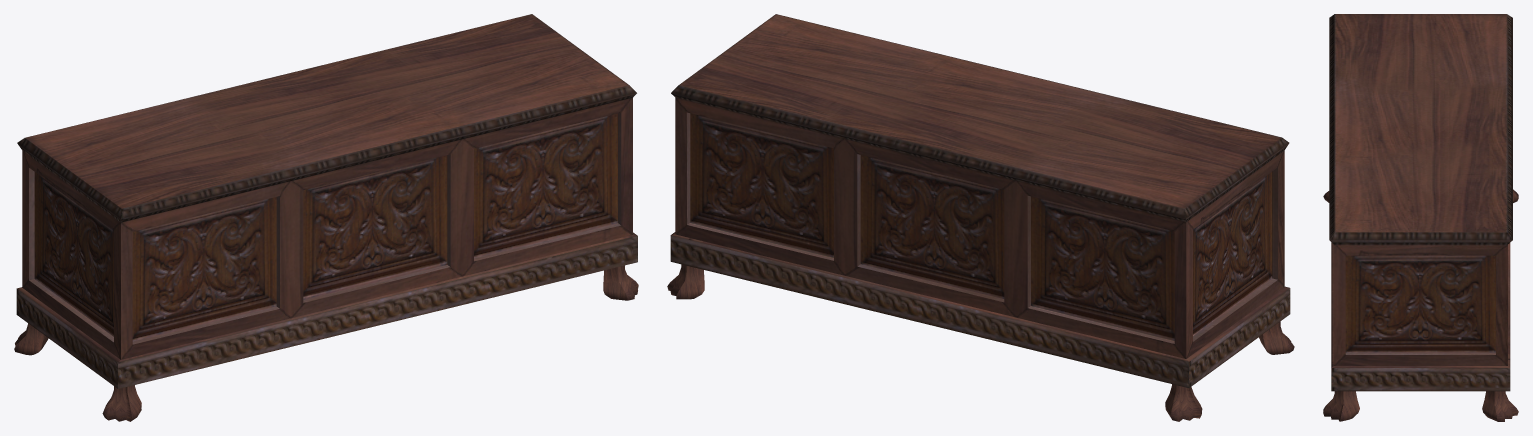
The model's file is low_poly_renaissance_chest.glb.
The picture shows the model from 3 angles, left to right: view 1: azimuth 30°, elevation 25°; view 2: azimuth 150°, elevation 25°; view 3: azimuth 270°, elevation 25°; orthographic projection. The views are drawn at different scales.
Parts seen in each view (by area): view 1: Box001, Box003_piedscoffre_0, Box002_piedscoffre_0, Box004_piedscoffre_0; view 2: Box001, Box004_piedscoffre_0, Box005_piedscoffre_0, Box003_piedscoffre_0; view 3: Box001, Box002_piedscoffre_0, Box005_piedscoffre_0.
Boxes of the visible parts, x1,y1,x2,y2 form: Box001: (16,14,637,388); Box003_piedscoffre_0: (102,385,141,421); Box002_piedscoffre_0: (603,265,638,300); Box004_piedscoffre_0: (14,323,48,355); Box001: (670,14,1290,387); Box004_piedscoffre_0: (1165,384,1202,421); Box005_piedscoffre_0: (667,264,704,299); Box003_piedscoffre_0: (1259,321,1294,354); Box001: (1329,14,1512,391); Box002_piedscoffre_0: (1323,391,1359,421); Box005_piedscoffre_0: (1482,391,1518,421).
Bounding box in the file's own units: 94.69 × 35.46 × 34.06.
2 materials, 2 textured.
